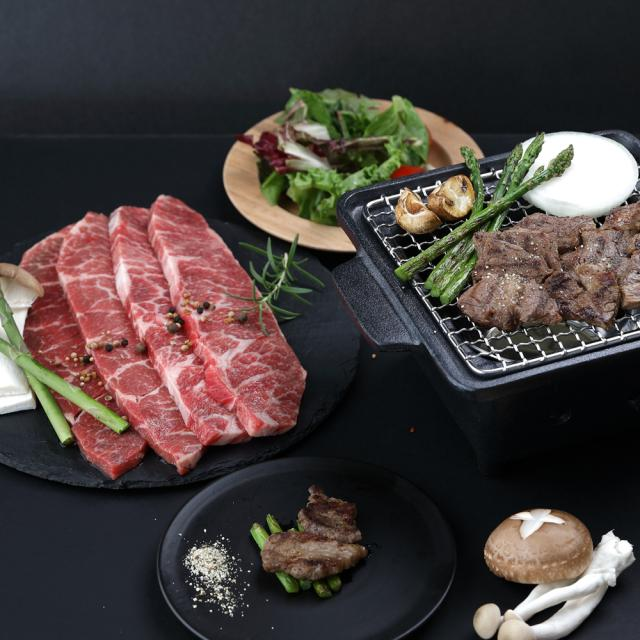beef: (81, 221, 258, 435)
